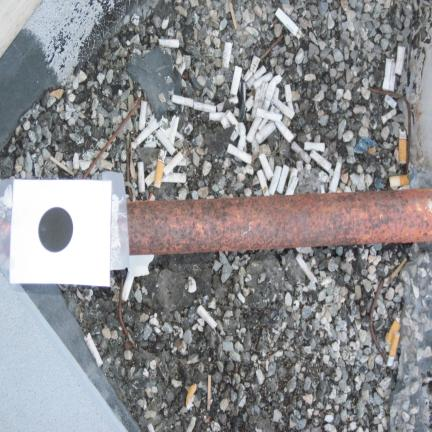karat: (127, 190, 431, 255)
